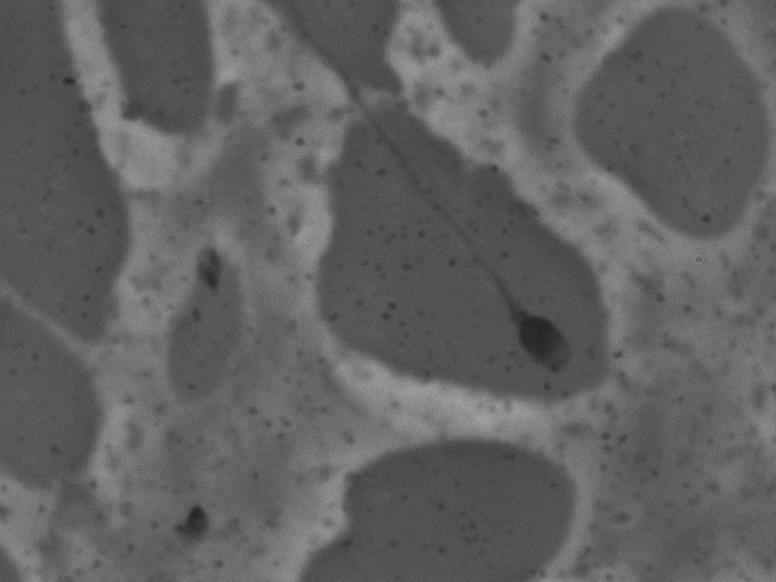Normal: (280, 33, 582, 381)
